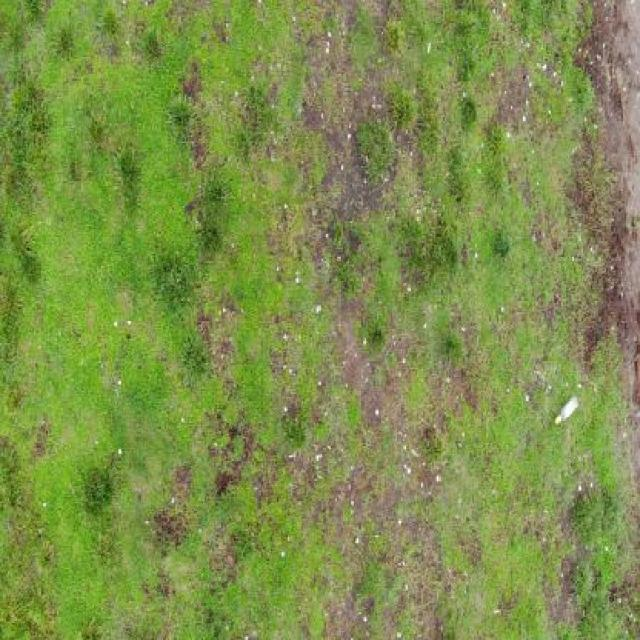Garbage: (555, 394, 579, 425)
